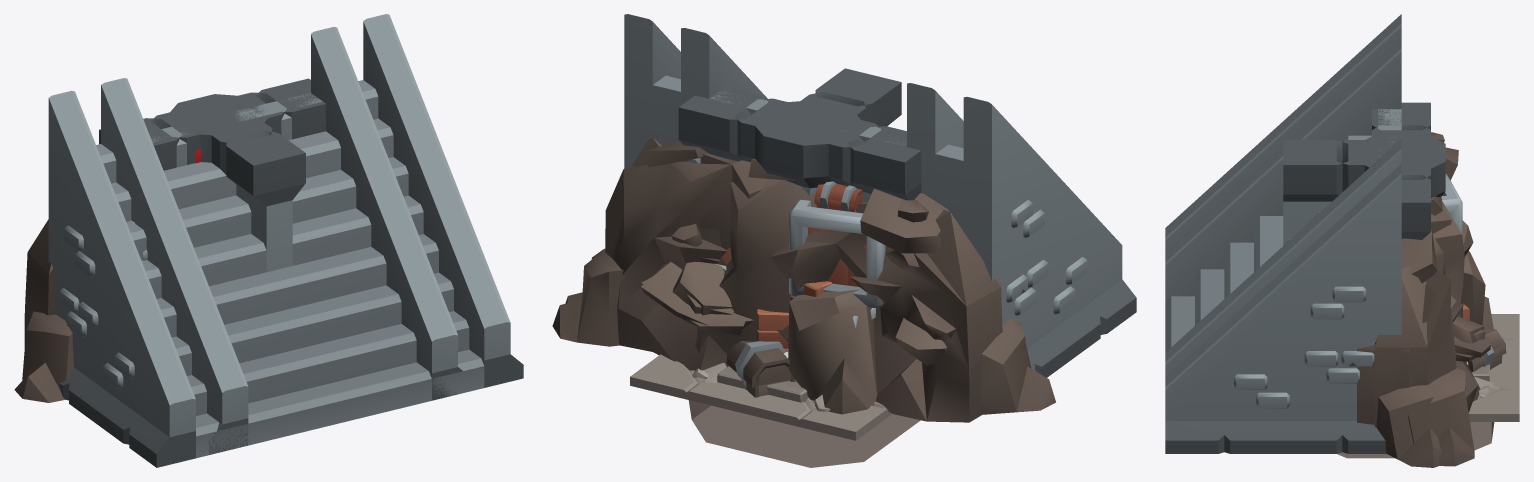
Rendered from dungeon.glb.
The picture shows the model from 3 angles, left to right: view 1: azimuth 30°, elevation 25°; view 2: azimuth 150°, elevation 25°; view 3: azimuth 270°, elevation 25°; orthographic projection. The views are drawn at different scales.
Parts seen in each view (by area): view 1: stairs_wide, stairs, wall_corner, rubble_large, wall_pillar, wall, wall_arched; view 2: rubble_large, stairs_wide, rubble_half, wall, box_stacked, stairs, floor_tile_big_grate, floor_tile_large, wall_corner, wall_pillar, wall_arched, crates_stacked (+2 smaller); view 3: stairs_wide, stairs, rubble_half, rubble_large, wall_corner, wall, floor_tile_large, box_stacked, wall_arched, wall_pillar, floor_tile_big_grate, floor_dirt_large.
Part boxes in pixels (bbox=[...]): stairs_wide: bbox=[48, 14, 523, 467]; stairs: bbox=[101, 27, 462, 454]; wall_corner: bbox=[159, 110, 305, 271]; rubble_large: bbox=[14, 219, 73, 402]; wall_pillar: bbox=[157, 93, 268, 162]; wall: bbox=[99, 78, 325, 170]; wall_arched: bbox=[145, 79, 325, 139]; rubble_large: bbox=[565, 159, 1055, 422]; stairs_wide: bbox=[624, 14, 1136, 377]; rubble_half: bbox=[552, 137, 767, 370]; wall: bbox=[678, 88, 921, 202]; box_stacked: bbox=[715, 181, 885, 397]; stairs: bbox=[681, 28, 963, 200]; floor_tile_big_grate: bbox=[688, 400, 920, 467]; floor_tile_large: bbox=[630, 354, 892, 440]; wall_corner: bbox=[798, 68, 901, 199]; wall_pillar: bbox=[708, 98, 872, 202]; wall_arched: bbox=[681, 87, 921, 200]; crates_stacked: bbox=[757, 281, 831, 351]; stairs_wide: bbox=[1165, 14, 1401, 453]; stairs: bbox=[1165, 39, 1401, 377]; rubble_half: bbox=[1374, 211, 1490, 466]; rubble_large: bbox=[1357, 132, 1493, 467]; wall_corner: bbox=[1283, 130, 1414, 243]; wall: bbox=[1372, 102, 1430, 239]; floor_tile_large: bbox=[1468, 314, 1519, 415]; box_stacked: bbox=[1441, 173, 1506, 371]; wall_arched: bbox=[1372, 102, 1430, 238]; wall_pillar: bbox=[1357, 136, 1445, 197]; floor_tile_big_grate: bbox=[1337, 422, 1494, 458]; floor_dirt_large: bbox=[1469, 385, 1519, 421].
Bounding box in the file's own units: 8.13 × 6.3 × 6.
1 material, 1 textured.
